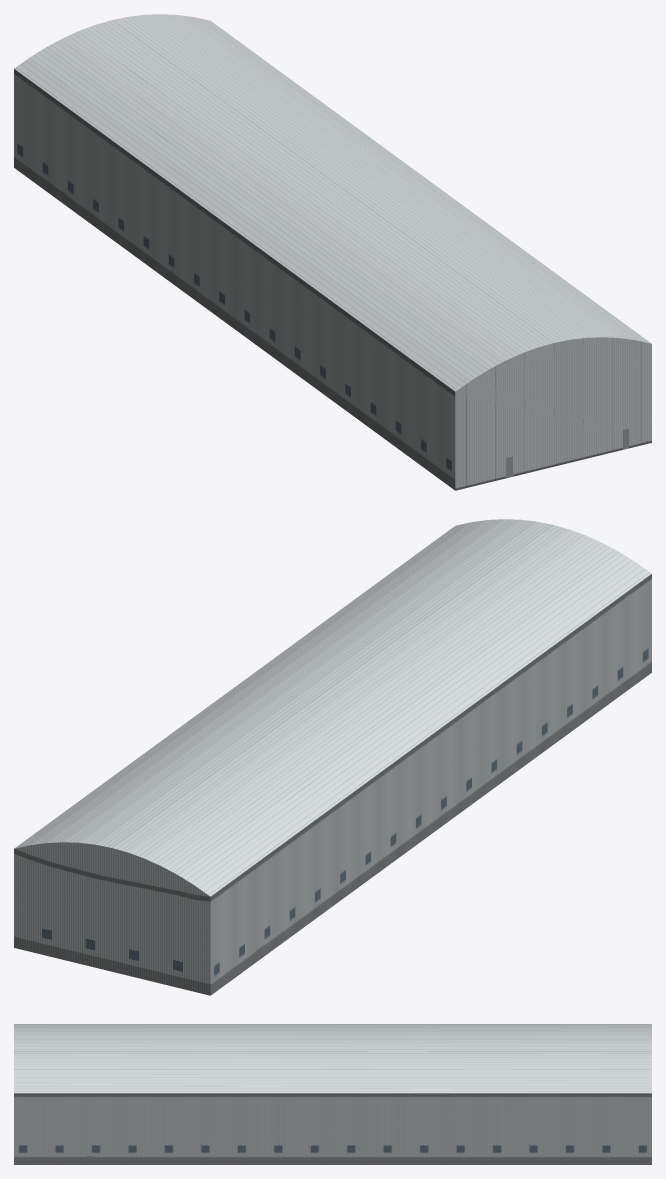
File: khsv_hangar_27x105.glb
The picture shows the model from 3 angles, top to bottom: view 1: azimuth 30°, elevation 25°; view 2: azimuth 150°, elevation 25°; view 3: azimuth 270°, elevation 25°; orthographic projection. The views are drawn at different scales.
Visible parts, largest first — view 1: khsv_hangar_27x105_hangar_roof, khsv_hangar_27x105_hangar_wall, khsv_hangar_27x105_hangar_door; view 2: khsv_hangar_27x105_hangar_roof, khsv_hangar_27x105_hangar_wall; view 3: khsv_hangar_27x105_hangar_wall, khsv_hangar_27x105_hangar_roof.
Part boxes in pixels (x1,y1,x2,y2): khsv_hangar_27x105_hangar_roof: [14, 14, 651, 391]; khsv_hangar_27x105_hangar_wall: [14, 69, 455, 490]; khsv_hangar_27x105_hangar_door: [455, 337, 651, 490]; khsv_hangar_27x105_hangar_roof: [14, 519, 651, 896]; khsv_hangar_27x105_hangar_wall: [14, 574, 651, 995]; khsv_hangar_27x105_hangar_wall: [14, 1093, 651, 1164]; khsv_hangar_27x105_hangar_roof: [14, 1024, 651, 1093].
Size of the model in its own units: 27 by 16.24 by 105.
3 materials, 3 textured.
